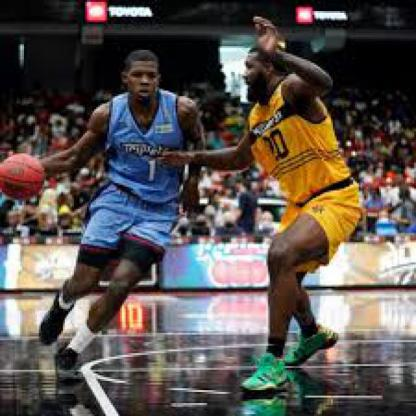basketball: (0, 153, 46, 198)
